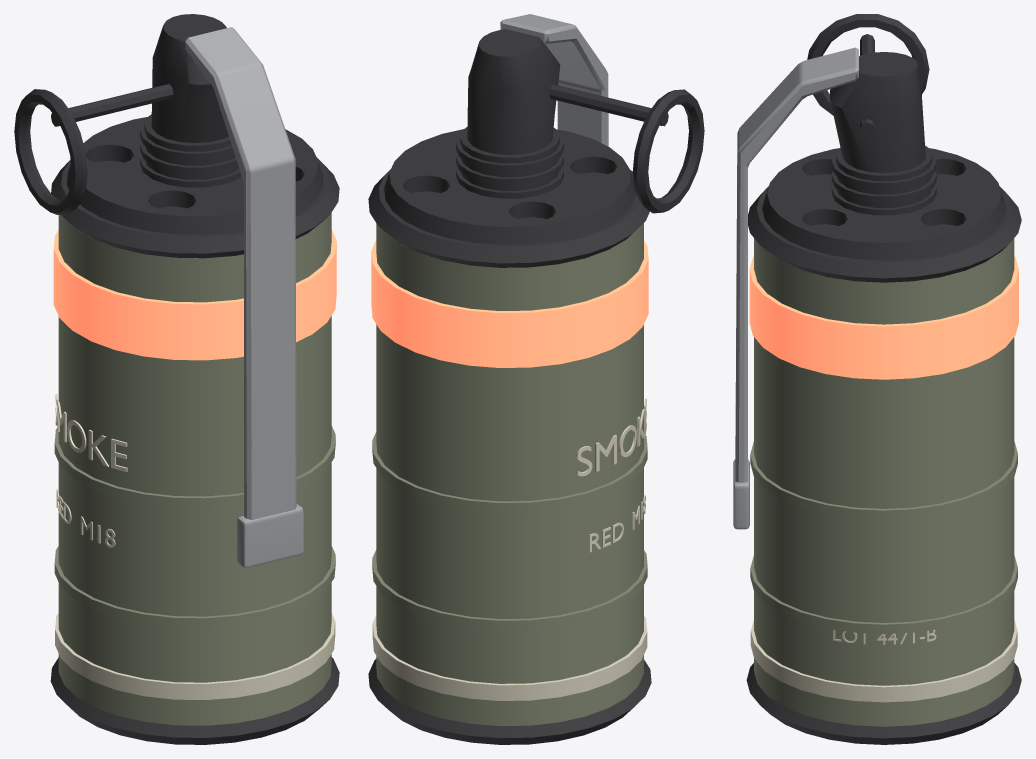
File: smokecan.glb
The picture shows the model from 3 angles, left to right: view 1: azimuth 30°, elevation 25°; view 2: azimuth 150°, elevation 25°; view 3: azimuth 270°, elevation 25°; orthographic projection. The views are drawn at different scales.
Parts seen in each view (by area): view 1: Body; view 2: Body; view 3: Body.
Boxes of the visible parts, x1=… form: Body: x1=14, y1=14, x2=339, y2=744; Body: x1=368, y1=14, x2=704, y2=744; Body: x1=733, y1=14, x2=1021, y2=744.
Bounding box in the file's own units: 0.0744 × 0.1668 × 0.0688.
